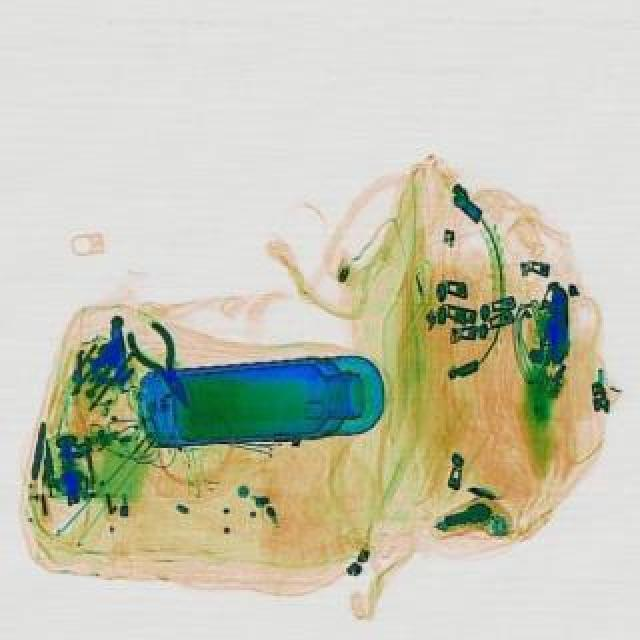wrench: (120, 318, 208, 418)
